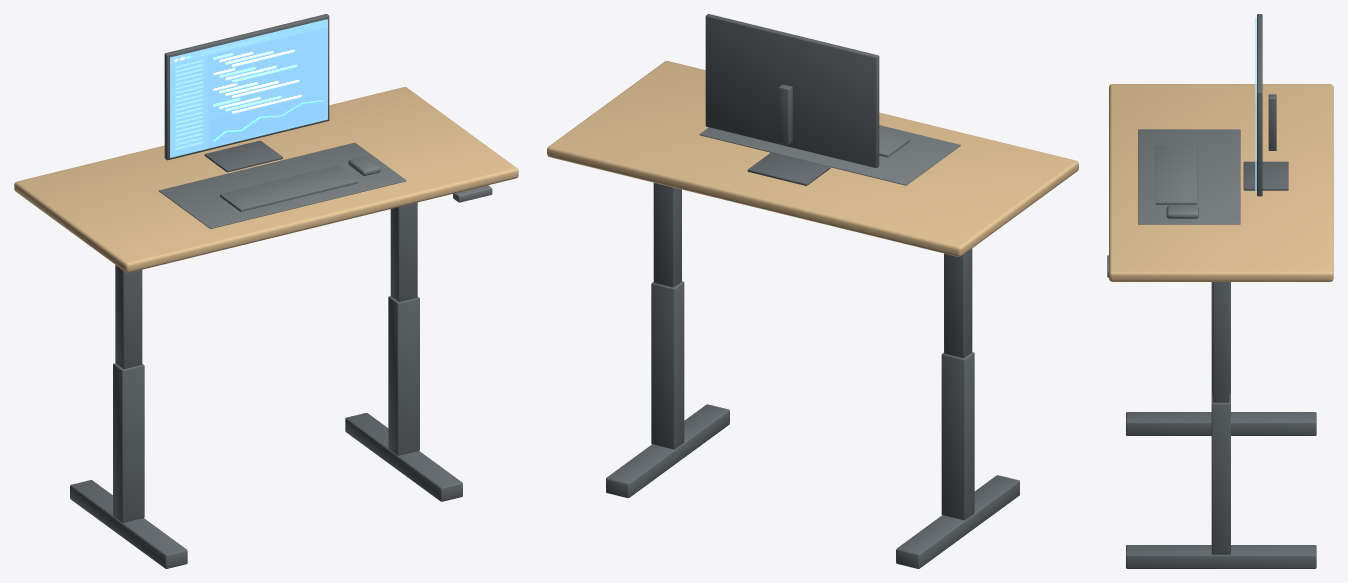
File: workstation.desk-standing.glb
3 views of the same model, side by side, from view 1: azimuth 30°, elevation 25°; view 2: azimuth 150°, elevation 25°; view 3: azimuth 270°, elevation 25° (orthographic). The views are drawn at different scales.
Visible parts, largest first — view 1: workstation.desk-standing; view 2: workstation.desk-standing; view 3: workstation.desk-standing.
Part boxes in pixels (x1,y1,x2,y2): workstation.desk-standing: (14,14,518,568); workstation.desk-standing: (547,14,1078,568); workstation.desk-standing: (1107,14,1333,568).
Bounding box in the file's own units: 1.4 × 1.53 × 0.705.
4 materials, 1 textured.
